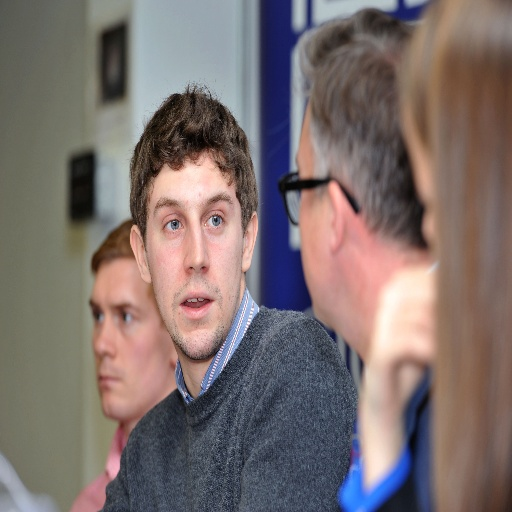hand: (359, 268, 435, 427)
